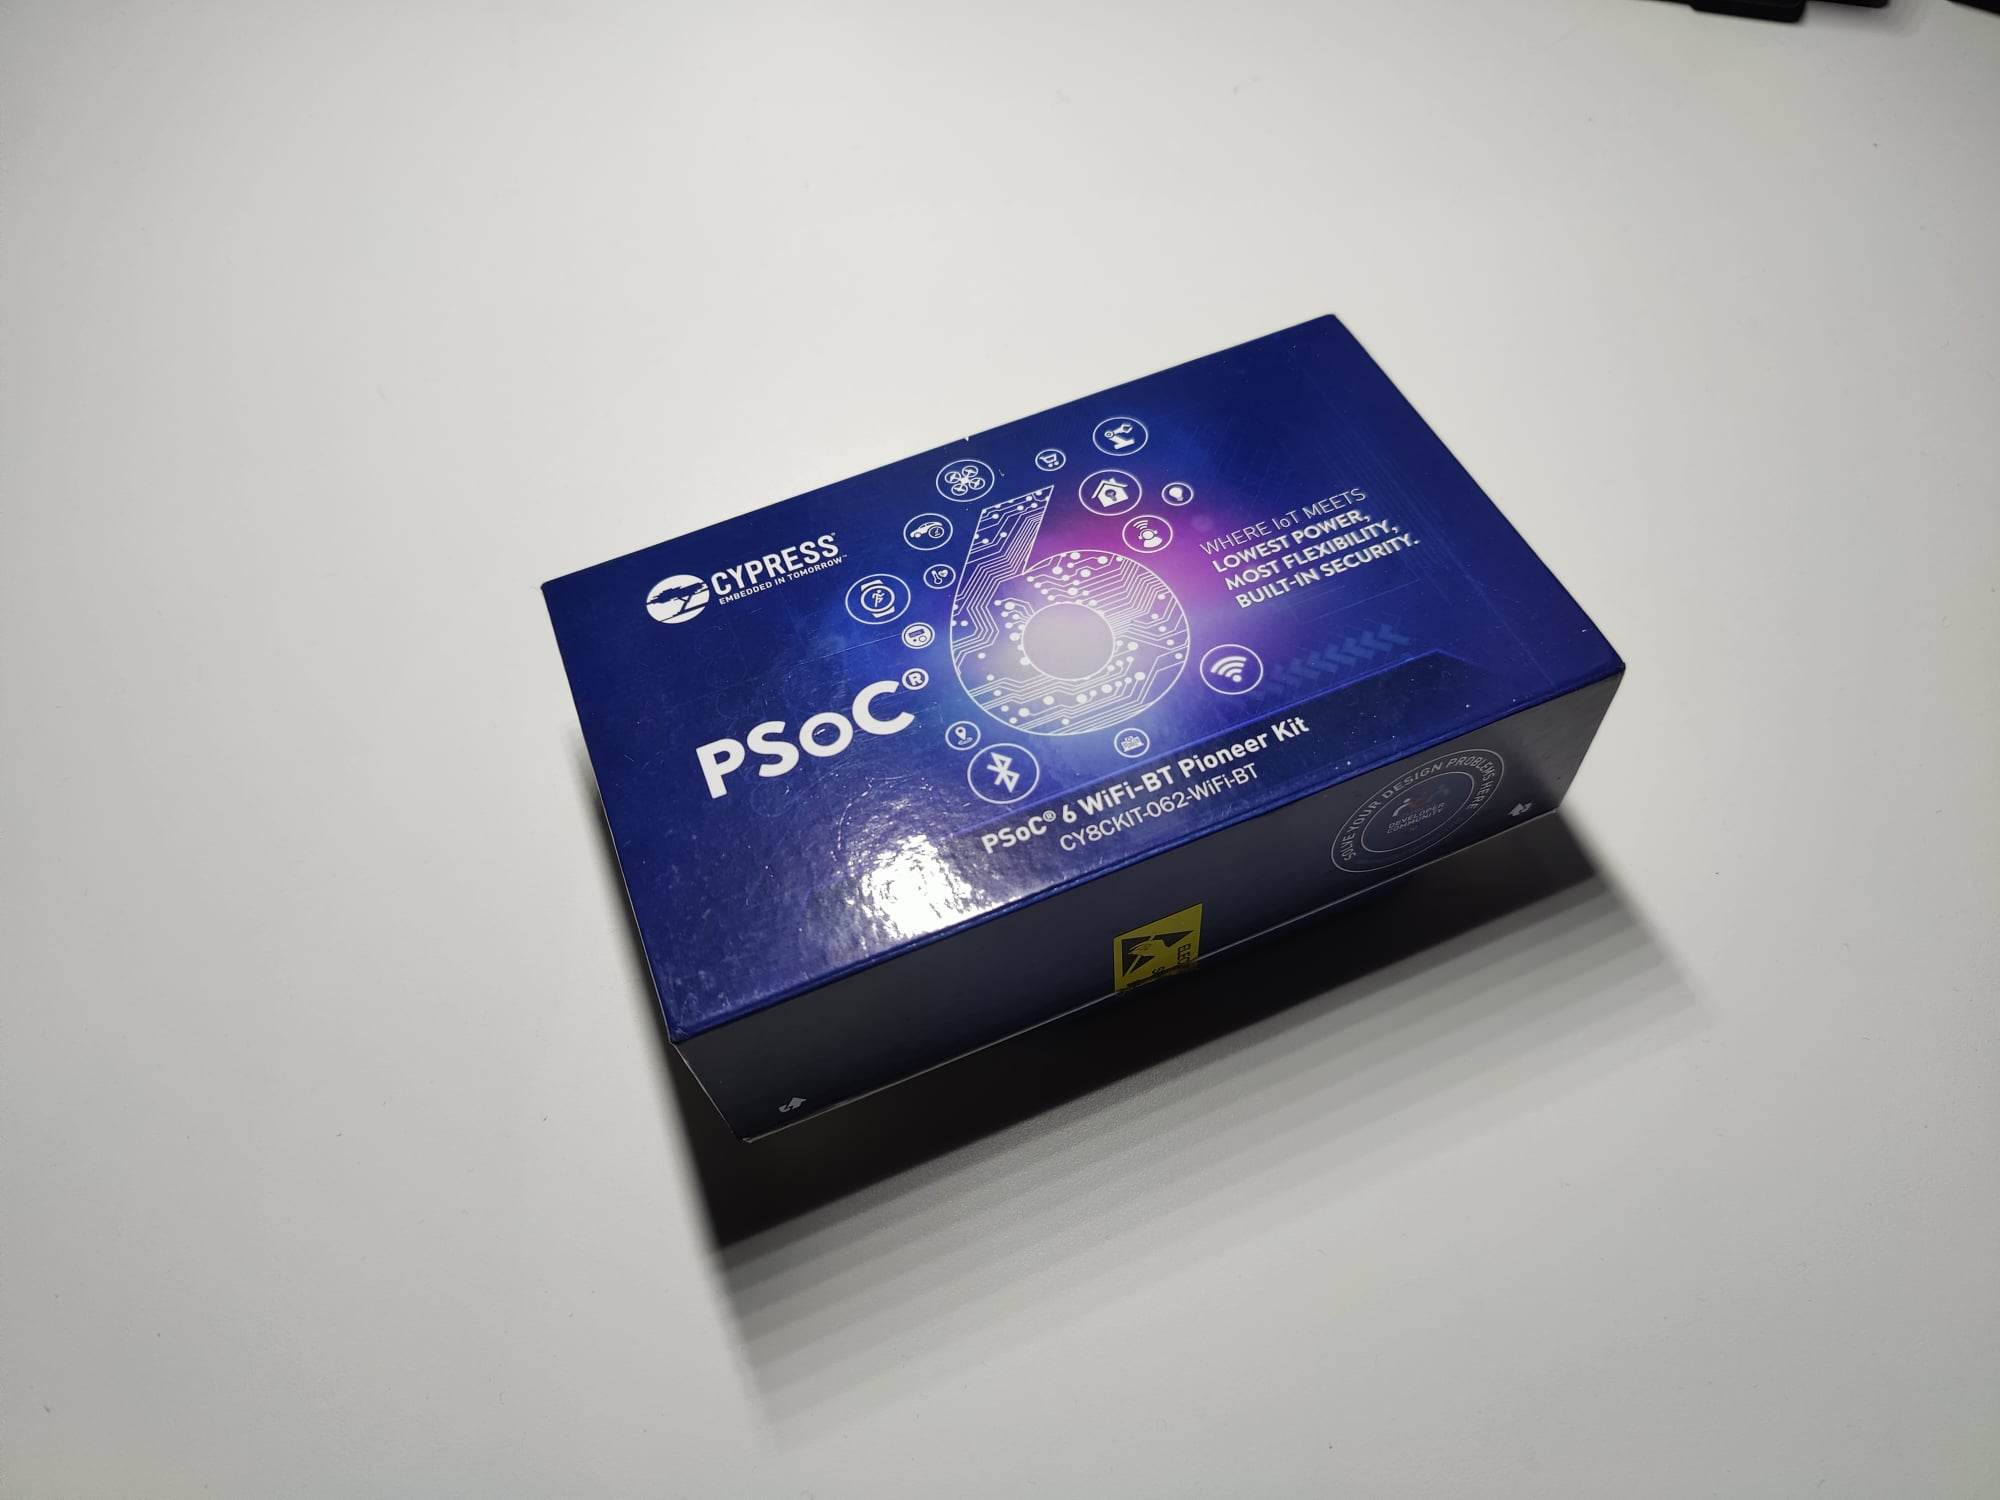PSoC_6: (512, 290, 1661, 1161)
